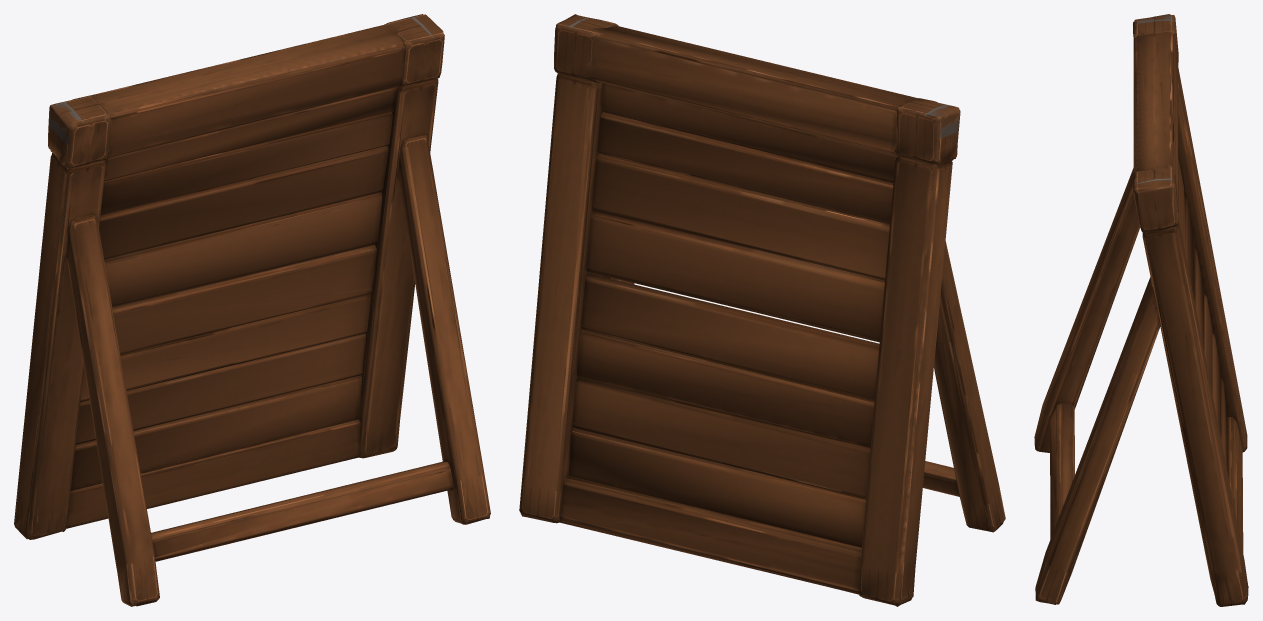
Rendered from Rustic_Wooden_A_Frame.fbx.
3 views of the same model, side by side, from view 1: azimuth 30°, elevation 25°; view 2: azimuth 150°, elevation 25°; view 3: azimuth 270°, elevation 25° (orthographic). The views are drawn at different scales.
Parts seen in each view (by area): view 1: mesh_node; view 2: mesh_node; view 3: mesh_node.
Boxes of the visible parts, x1,y1,x2,y2 form: mesh_node: (14, 14, 490, 606); mesh_node: (519, 14, 1005, 606); mesh_node: (1034, 14, 1248, 606).
Bounding box in the file's own units: 87.3 × 100 × 45.8.
Materials: 1 (1 with a texture image).
